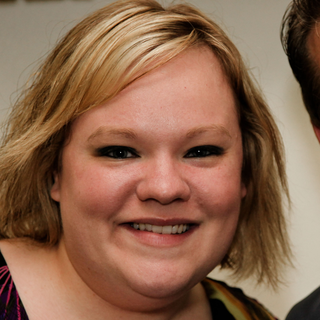eye: (85, 138, 150, 169), (176, 138, 229, 166)
